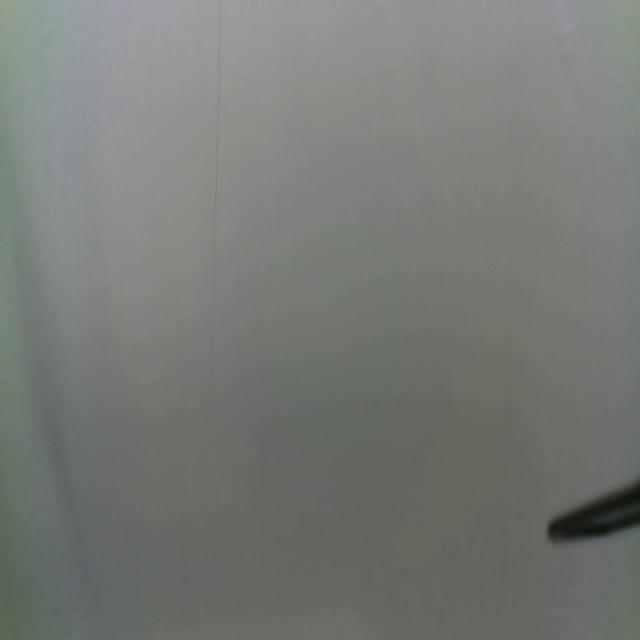crease: (209, 0, 224, 390)
